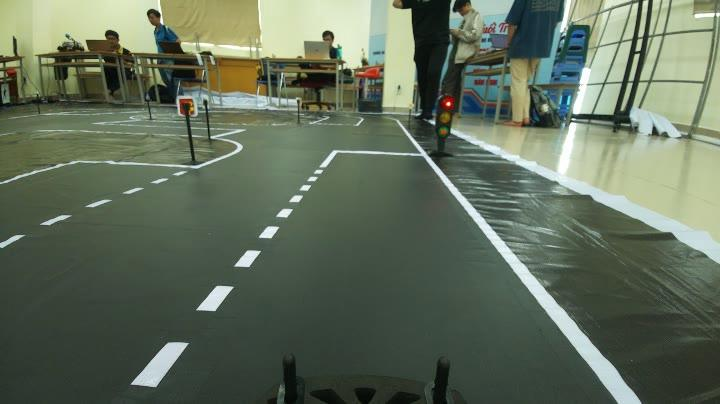trafficlight: (419, 88, 461, 169)
